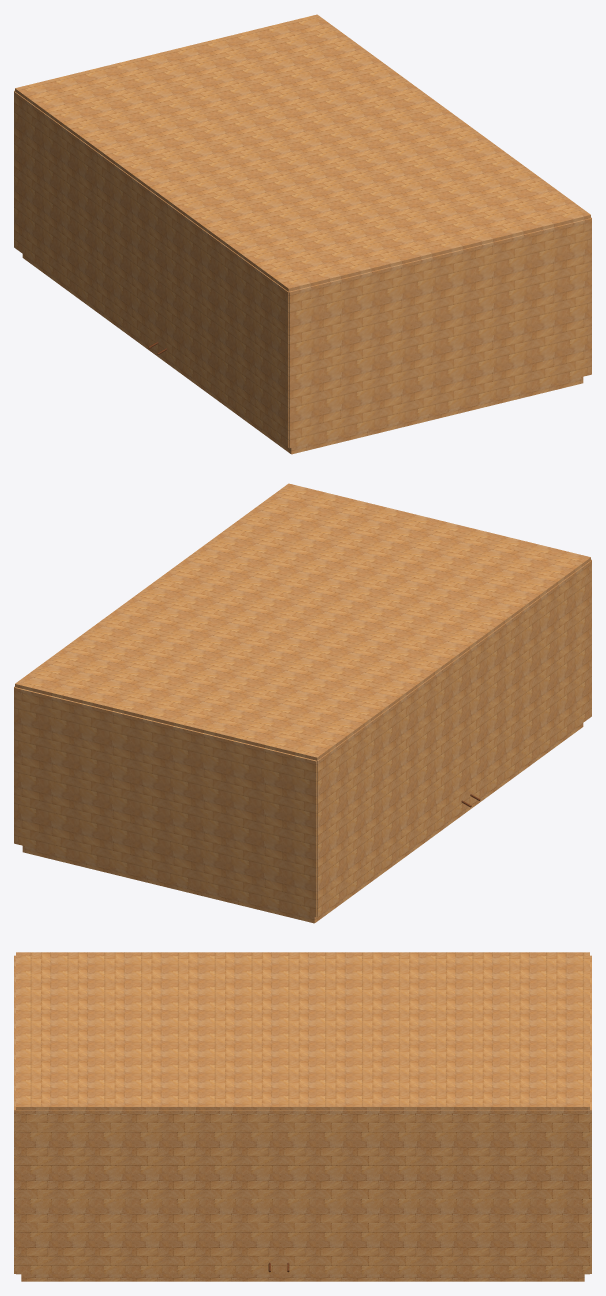
Rendered from stage.glb.
3 renders of one model, top to bottom at view 1: azimuth 30°, elevation 25°; view 2: azimuth 150°, elevation 25°; view 3: azimuth 270°, elevation 25°, orthographic. The views are drawn at different scales.
Visible parts, largest first — view 1: Stage_parede_arenito; view 2: Stage_parede_arenito; view 3: Stage_parede_arenito.
Boxes of the visible parts, left/top/right/bottom form: Stage_parede_arenito: left=14, top=14, right=591, bottom=454; Stage_parede_arenito: left=14, top=483, right=591, bottom=923; Stage_parede_arenito: left=14, top=952, right=591, bottom=1281.
Bounding box in the file's own units: 21.24 × 10.63 × 31.4.
Materials: 31 (13 with a texture image).
